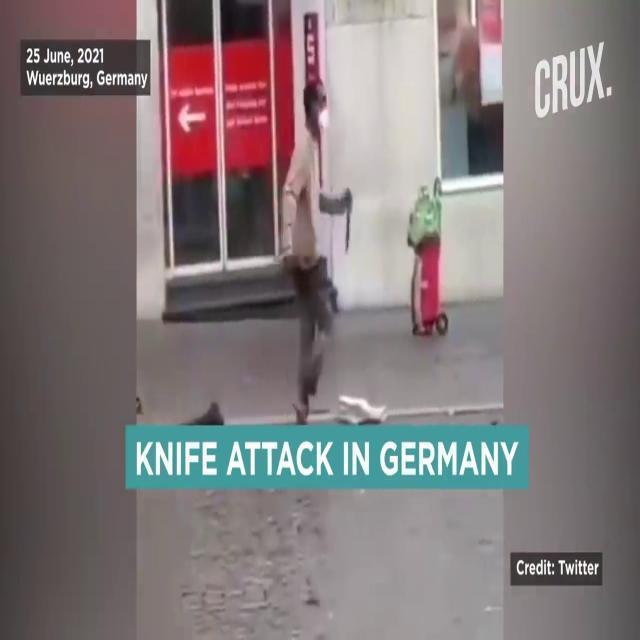Knife: (340, 187, 356, 260)
